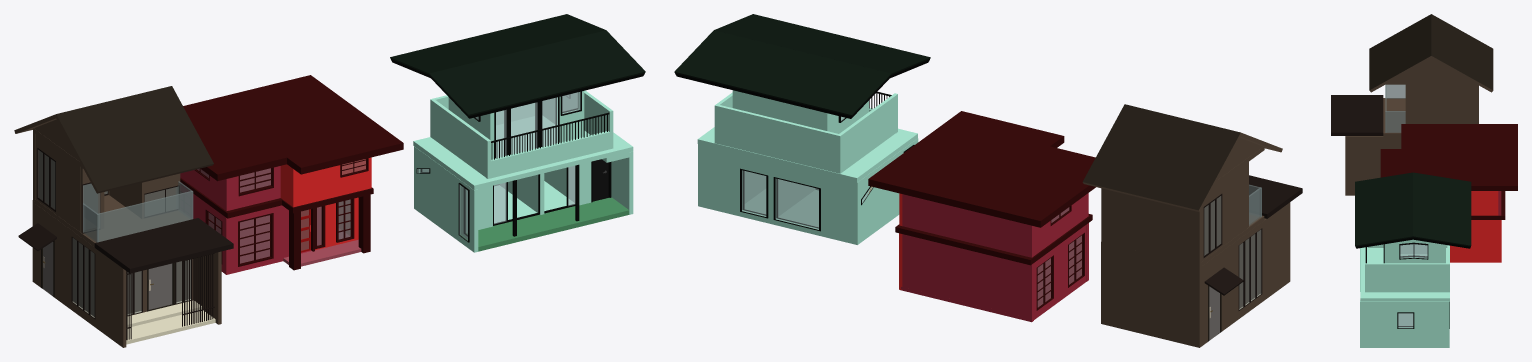
The model's file is Modern House (COMBINE).FBX.
The picture shows the model from 3 angles, left to right: view 1: azimuth 30°, elevation 25°; view 2: azimuth 150°, elevation 25°; view 3: azimuth 270°, elevation 25°; orthographic projection. The views are drawn at different scales.
Visible parts, largest first — view 1: Green House, Brown House, Red House; view 2: Green House, Brown House, Red House; view 3: Green House, Brown House, Red House.
Boxes of the visible parts, x1,y1,x2,y2 form: Green House: (390,14,645,252); Brown House: (14,86,233,347); Red House: (180,75,403,274); Green House: (674,14,930,244); Brown House: (1082,104,1302,347); Red House: (868,111,1095,322); Green House: (1355,172,1471,347); Brown House: (1331,14,1493,195); Red House: (1380,124,1517,262).
Bounding box in the file's own units: 6242 × 2105 × 2488.
